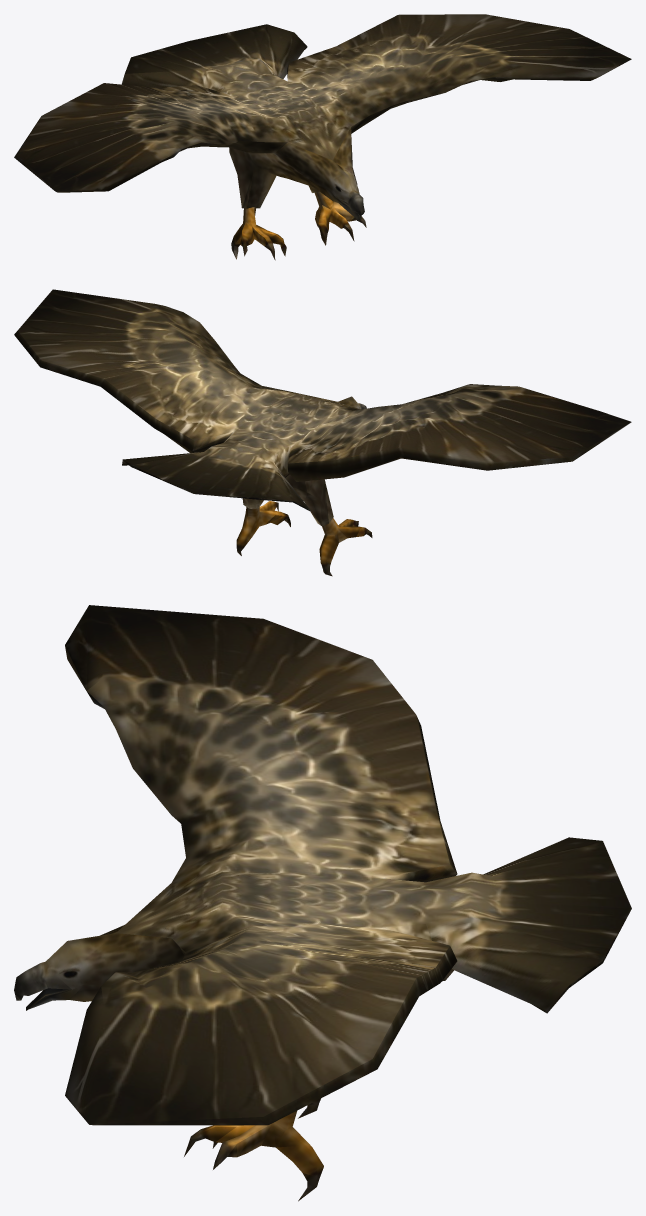
Rendered from eagle.obj.
3 renders of one model, top to bottom at view 1: azimuth 30°, elevation 25°; view 2: azimuth 150°, elevation 25°; view 3: azimuth 270°, elevation 25°, orthographic. The views are drawn at different scales.
Visible parts, largest first — view 1: Group; view 2: Group; view 3: Group.
Part boxes in pixels (bbox=[...]): Group: bbox=[14, 14, 631, 260]; Group: bbox=[14, 289, 631, 576]; Group: bbox=[14, 605, 631, 1201].
Bounding box in the file's own units: 59.89 × 18.29 × 31.02.
1 material, 1 textured.
